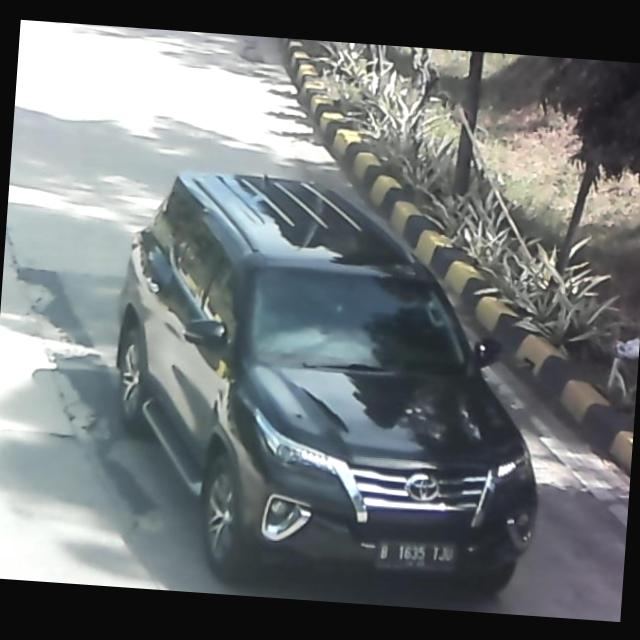plate: (374, 533, 458, 571)
